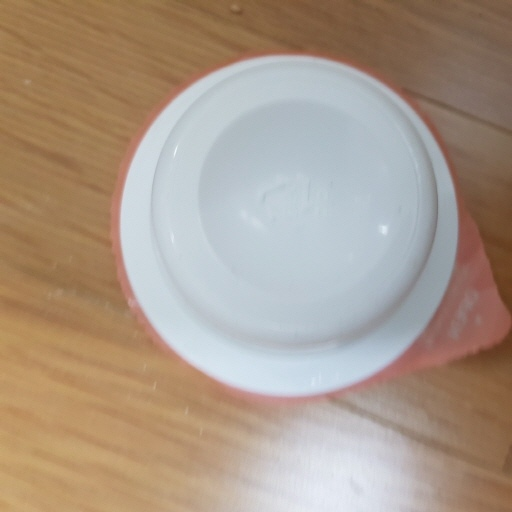Plastic_5: (108, 52, 469, 407)
